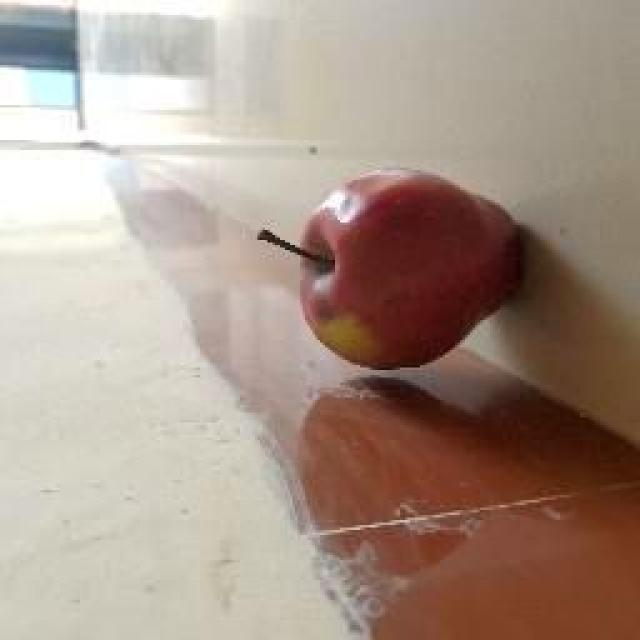Good_Apple: (258, 170, 521, 368)
